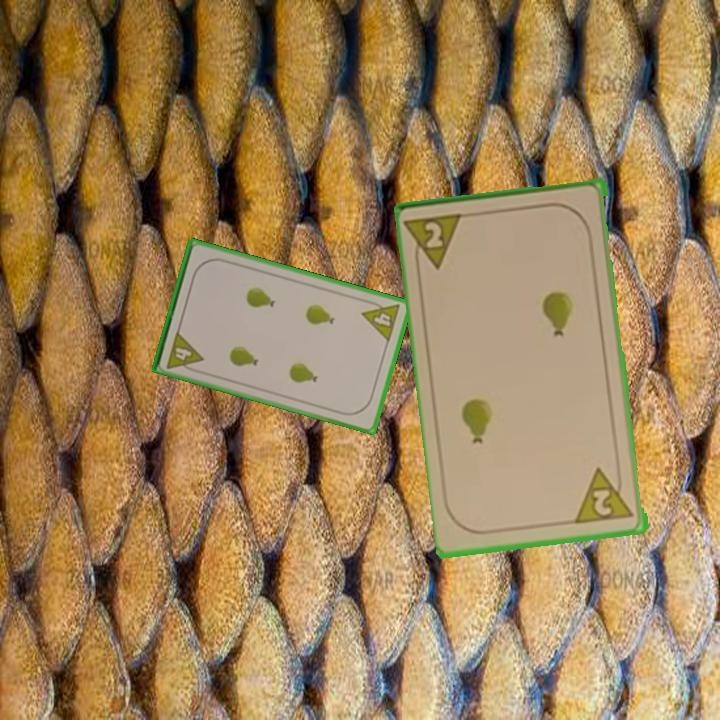2p: (404, 210, 470, 275), (574, 463, 638, 527)
4p: (358, 296, 403, 345), (163, 327, 206, 375)
